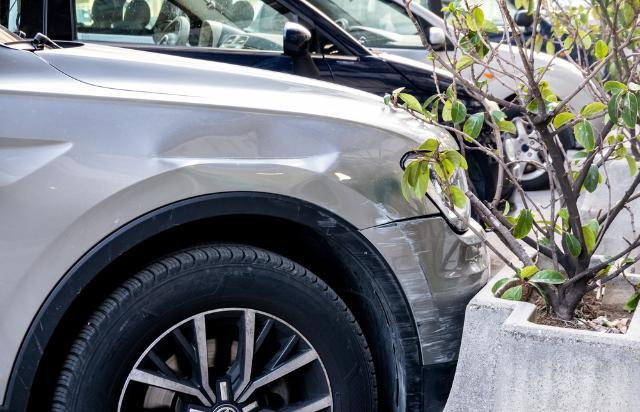dent: (152, 114, 337, 195)
scratch: (376, 221, 465, 365), (374, 199, 401, 227)
